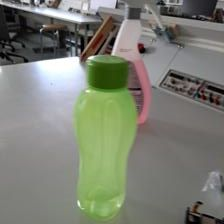bottle: (70, 54, 141, 220)
